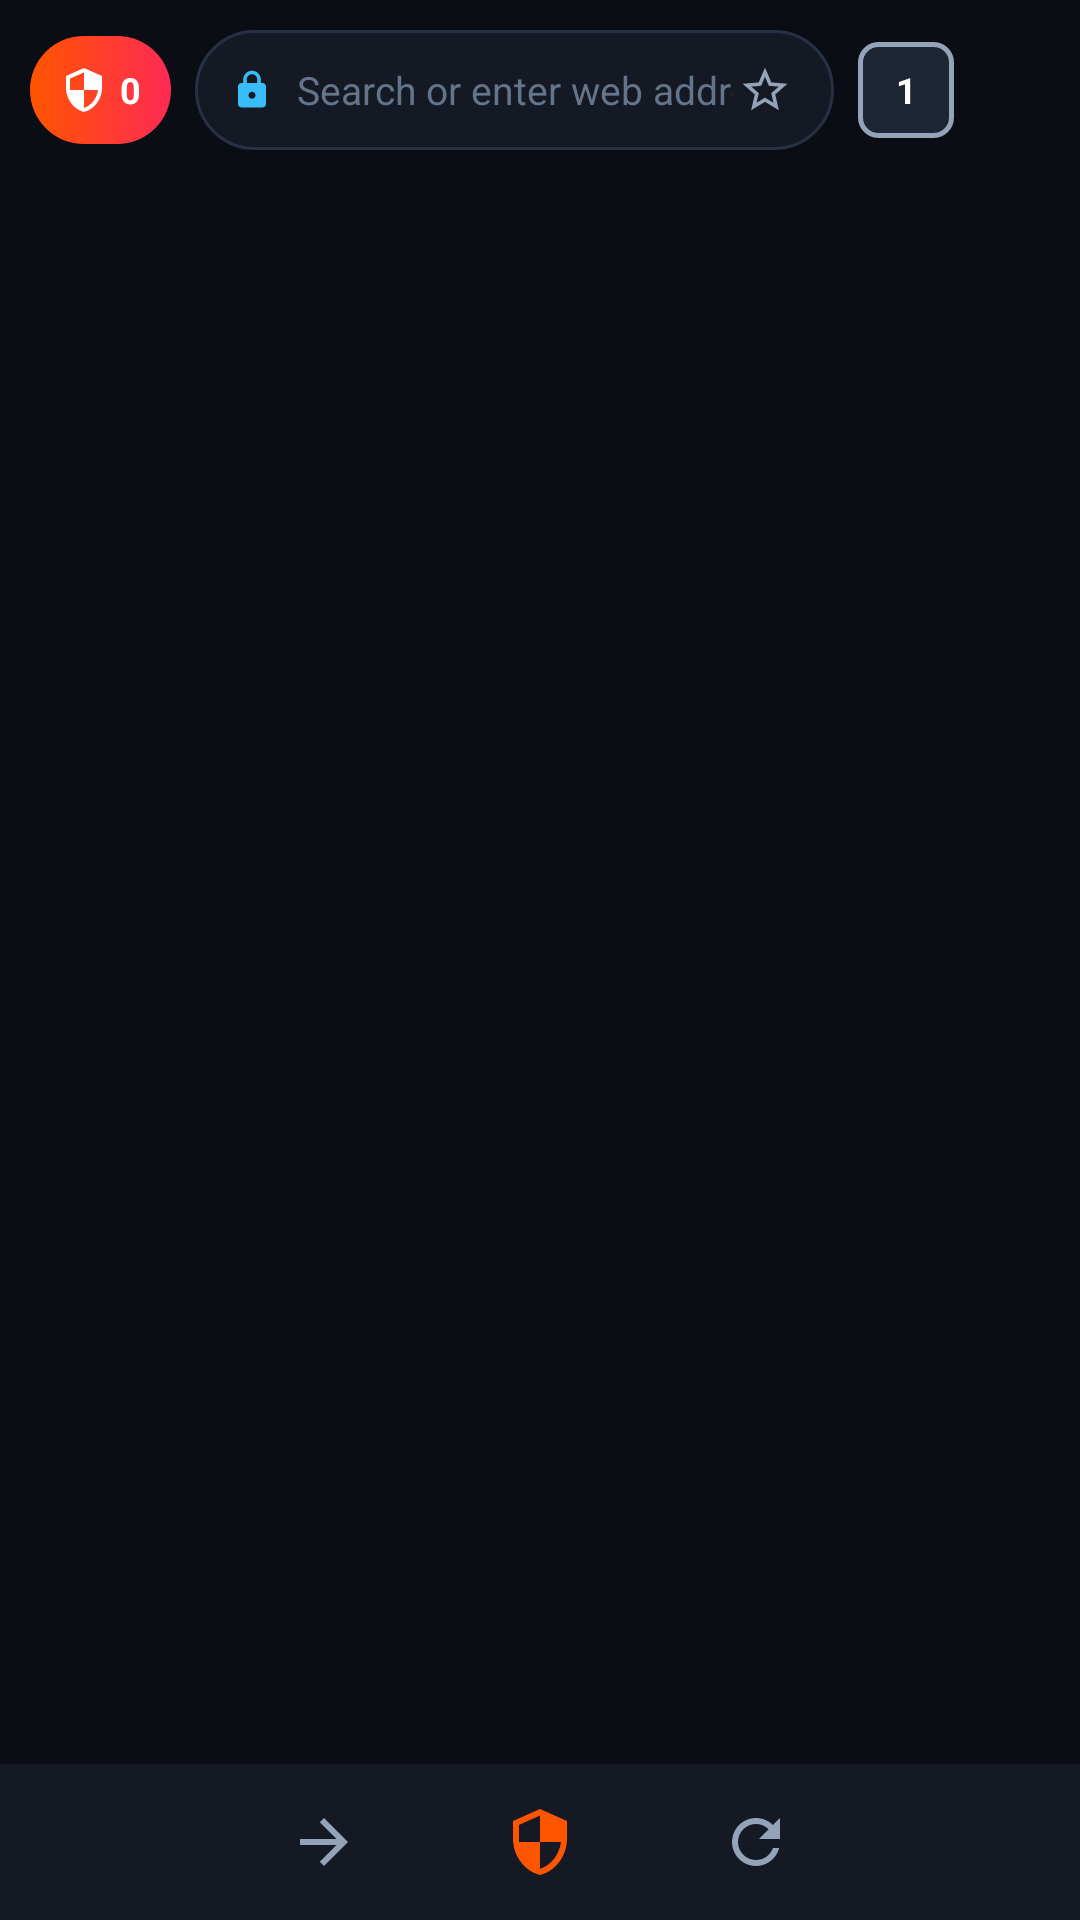

Icon bounding boxes for this 1080×1920 phone screenshot, format (x1, y1, x2, y2):
forward: (300, 1818, 348, 1866)
lock: (238, 70, 266, 108)
refresh: (732, 1818, 780, 1866)
shield: (66, 66, 108, 114), (513, 1809, 567, 1875)
star: (743, 68, 787, 110)
